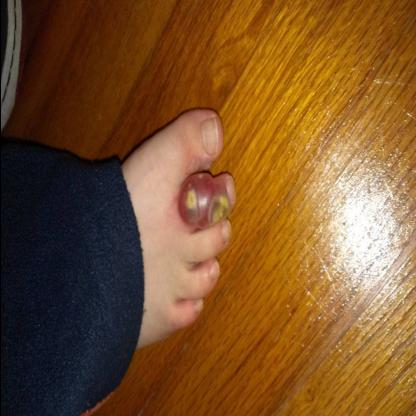Fire ant: (173, 159, 239, 237)
